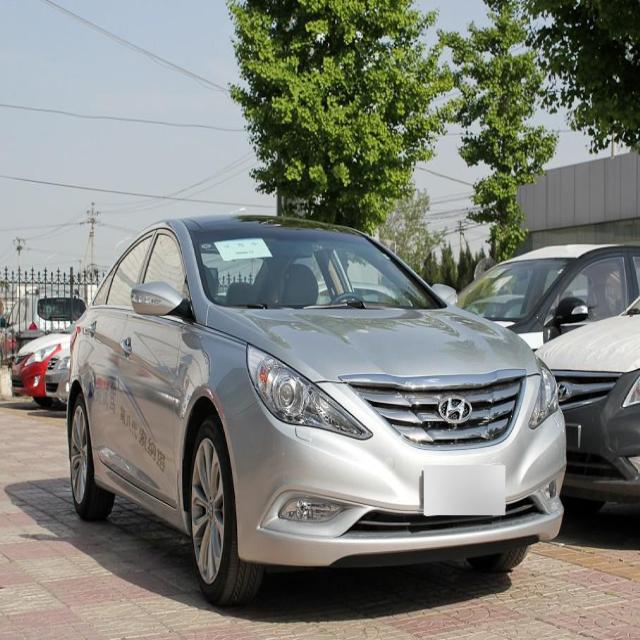back_right_side_light: (68, 323, 80, 384)
door: (90, 234, 156, 480)
front_bumper: (230, 396, 570, 568)
front_glass: (190, 219, 443, 313)
front_left_side_light: (527, 352, 561, 434)
front_left_side_mirror: (431, 280, 462, 312)
front_right_side_door: (113, 223, 191, 514)
front_right_side_light: (243, 339, 373, 446)
front_right_side_mirror: (131, 276, 193, 330)
wheel: (187, 417, 264, 605), (67, 396, 115, 522)
